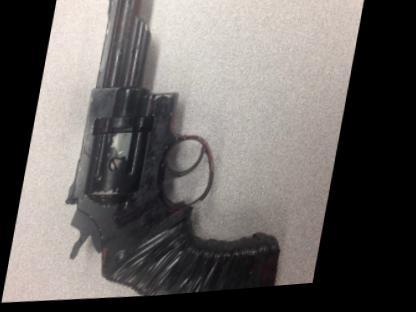pistol: (53, 0, 335, 305)
